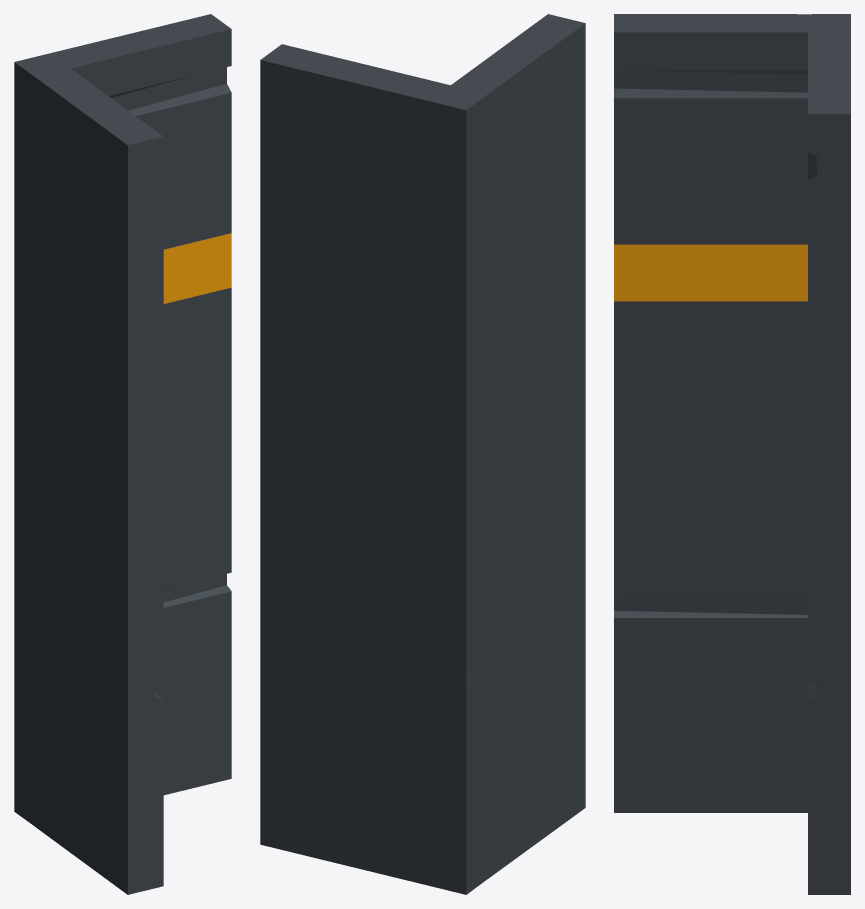
File: NLICornerShort.glb
3 views of the same model, side by side, from view 1: azimuth 30°, elevation 25°; view 2: azimuth 150°, elevation 25°; view 3: azimuth 270°, elevation 25° (orthographic). The views are drawn at different scales.
Visible parts, largest first — view 1: Cube.001; view 2: Cube.001; view 3: Cube.001.
Boxes of the visible parts, box(x1,y1,x2,y2) form: Cube.001: box(14, 14, 231, 894); Cube.001: box(260, 14, 585, 894); Cube.001: box(614, 14, 850, 894).
Bounding box in the file's own units: 1.1 × 4 × 1.1.
2 materials, 1 textured.
